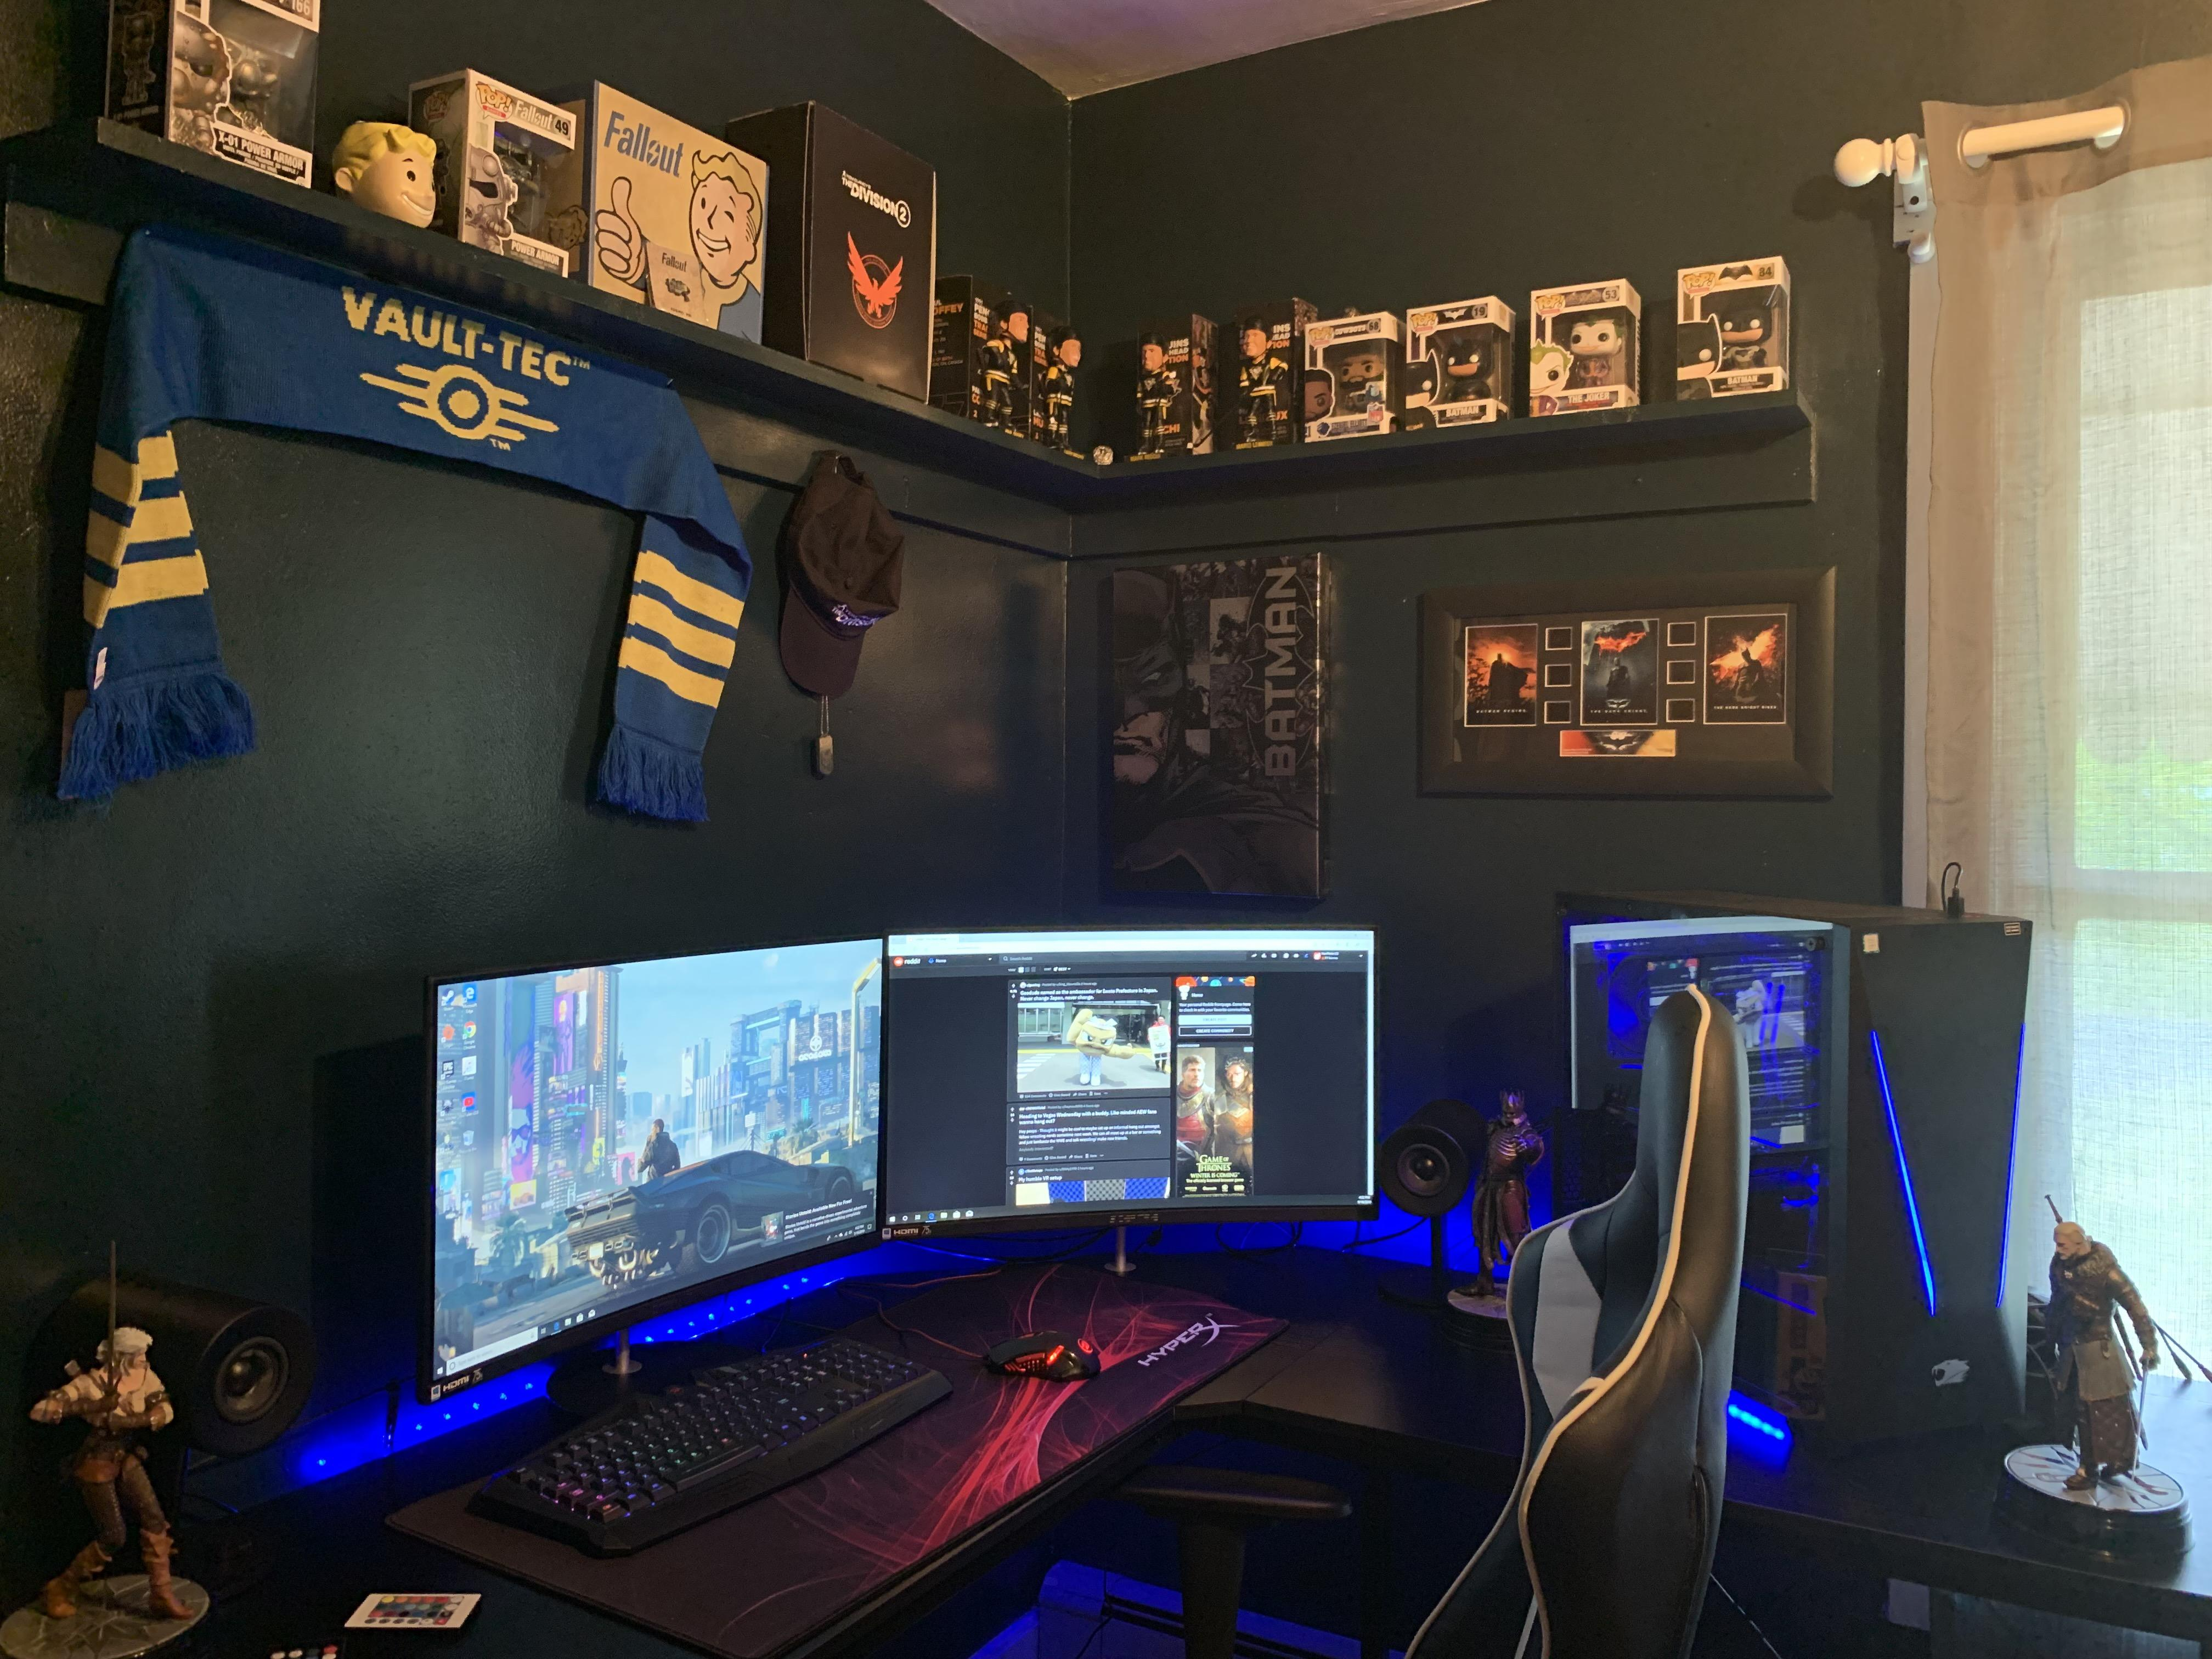Chair (Gaming): (1406, 988, 1759, 1659)
Decoration (Miniature): (0, 1256, 211, 1657), (1996, 1197, 2196, 1547), (105, 0, 315, 193), (406, 75, 594, 286), (1442, 1101, 1554, 1326), (1397, 291, 1519, 444), (1674, 261, 1796, 413), (1524, 274, 1646, 425), (1296, 307, 1407, 455), (937, 274, 1029, 444), (326, 112, 449, 239), (1129, 308, 1217, 464), (1224, 300, 1299, 455), (1028, 310, 1085, 458)
Decoration (Picture): (1407, 566, 1844, 824), (1092, 547, 1338, 917)
Desk (Generic): (228, 1230, 2207, 1645)
Desktop (Windows): (1559, 903, 2040, 1473)
External Speakers (Generic): (172, 1279, 331, 1476), (1381, 1087, 1474, 1232)
Keyboard (Gaming): (451, 1347, 930, 1516)
Monitor (Landscape): (399, 924, 885, 1398), (881, 913, 1383, 1253)
Mouse (Gaming): (972, 1319, 1108, 1387)
Mousepad (Gaming): (374, 1284, 1282, 1659)
